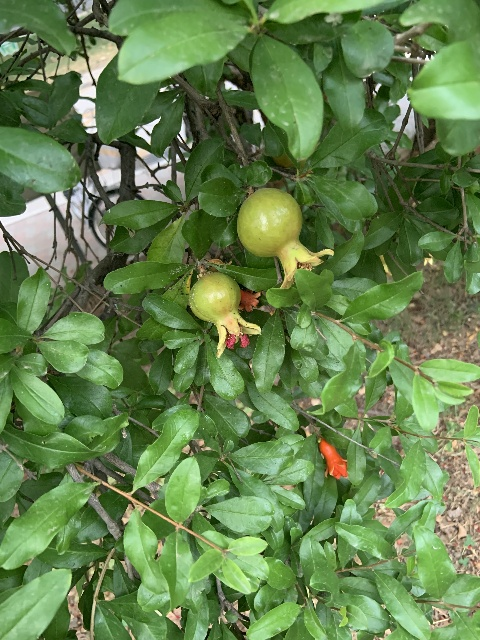flower: (319, 438, 347, 479)
mid-growth: (237, 187, 333, 289), (189, 270, 260, 356)
